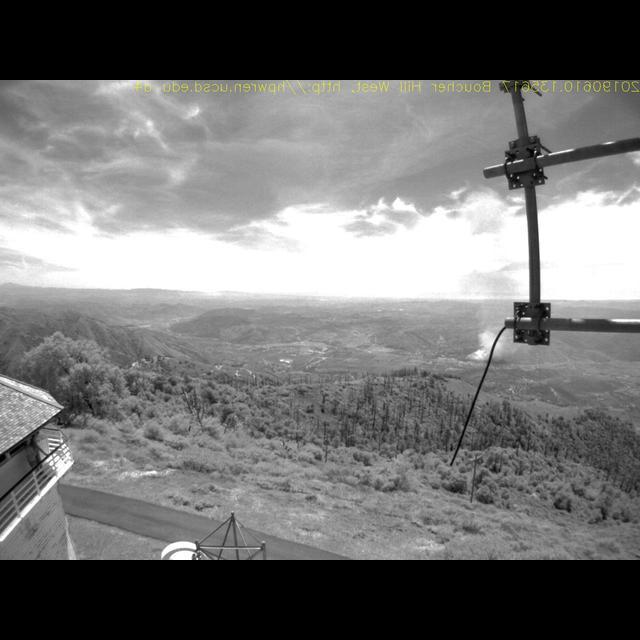Smoke: (462, 259, 522, 364)
